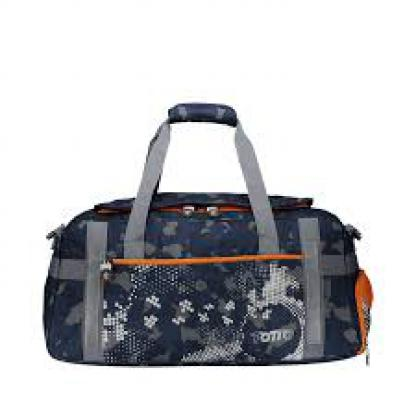morral: (33, 78, 392, 375)
